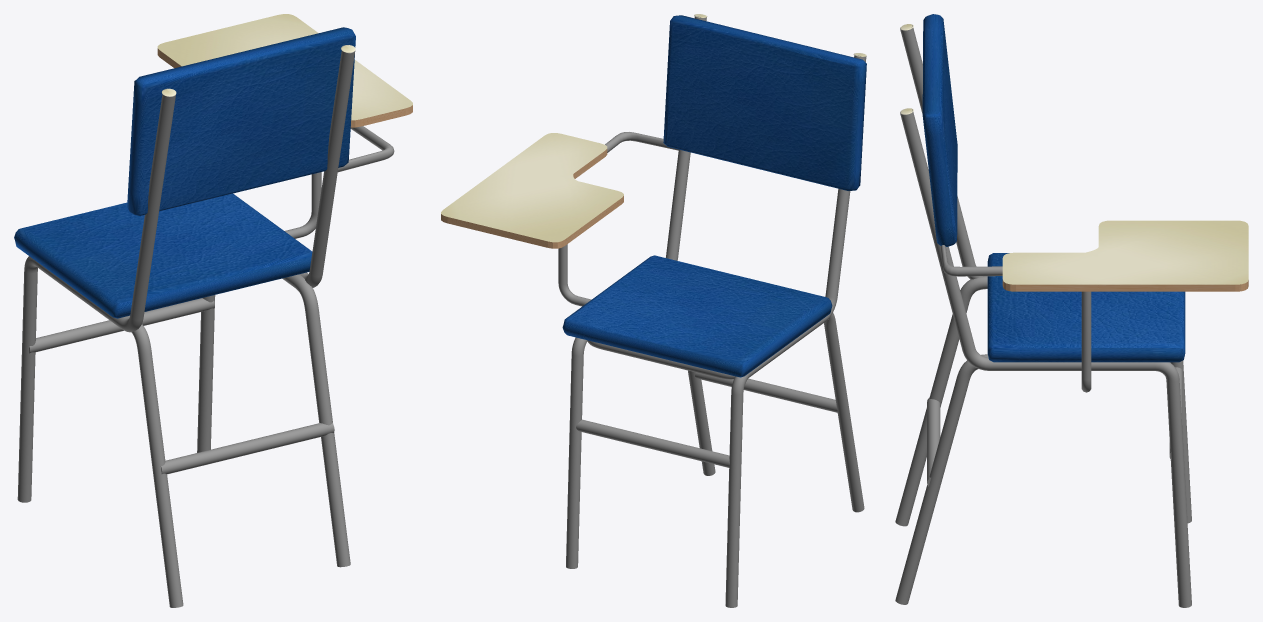
File: PipitreAzul.FBX
3 renders of one model, left to right at view 1: azimuth 30°, elevation 25°; view 2: azimuth 150°, elevation 25°; view 3: azimuth 270°, elevation 25°, orthographic. The views are drawn at different scales.
Parts seen in each view (by area): view 1: Espaldar, Asiento, TuboPatasTraseras, TuboDerecho, Tabla, TUboIzquierdo, TuboMedioTrasero, TuboMedioDelantero, TuboBrazo, TuboBase; view 2: Espaldar, Asiento, Tabla, TuboDerecho, TuboPatasTraseras, TUboIzquierdo, TuboMedioDelantero, TuboMedioTrasero, TuboBase, TuboBrazo; view 3: Tabla, Asiento, TUboIzquierdo, TuboPatasTraseras, Espaldar, TuboDerecho, TuboBase, TuboMedioTrasero, TuboBrazo.
Boxes of the visible parts, left/top/right/bottom form: Espaldar: left=127, top=27, right=355, bottom=215; Asiento: left=14, top=193, right=312, bottom=318; TuboPatasTraseras: left=127, top=274, right=350, bottom=607; TuboDerecho: left=17, top=88, right=175, bottom=502; Tabla: left=157, top=14, right=412, bottom=127; TUboIzquierdo: left=197, top=45, right=355, bottom=452; TuboMedioTrasero: left=161, top=422, right=334, bottom=474; TuboMedioDelantero: left=29, top=298, right=214, bottom=353; TuboBrazo: left=337, top=126, right=394, bottom=172; TuboBase: left=285, top=172, right=321, bottom=238; Espaldar: left=663, top=15, right=866, bottom=190; Asiento: left=562, top=255, right=832, bottom=377; Tabla: left=441, top=133, right=623, bottom=248; TuboDerecho: left=725, top=55, right=866, bottom=607; TuboPatasTraseras: left=587, top=312, right=864, bottom=512; TUboIzquierdo: left=566, top=15, right=706, bottom=568; TuboMedioDelantero: left=576, top=419, right=729, bottom=467; TuboMedioTrasero: left=688, top=372, right=837, bottom=412; TuboBase: left=558, top=244, right=591, bottom=306; TuboBrazo: left=605, top=132, right=678, bottom=152; Tabla: left=1002, top=220, right=1248, bottom=291; Asiento: left=987, top=253, right=1185, bottom=362; TUboIzquierdo: left=900, top=109, right=1191, bottom=607; TuboPatasTraseras: left=895, top=276, right=988, bottom=604; Espaldar: left=922, top=14, right=957, bottom=246; TuboDerecho: left=900, top=25, right=1191, bottom=523; TuboBase: left=1081, top=291, right=1091, bottom=392; TuboMedioTrasero: left=927, top=397, right=940, bottom=486; TuboBrazo: left=940, top=245, right=1002, bottom=276.
Bounding box in the file's own units: 20.88 × 32.79 × 20.94.
Materials: 4 (3 with a texture image).
